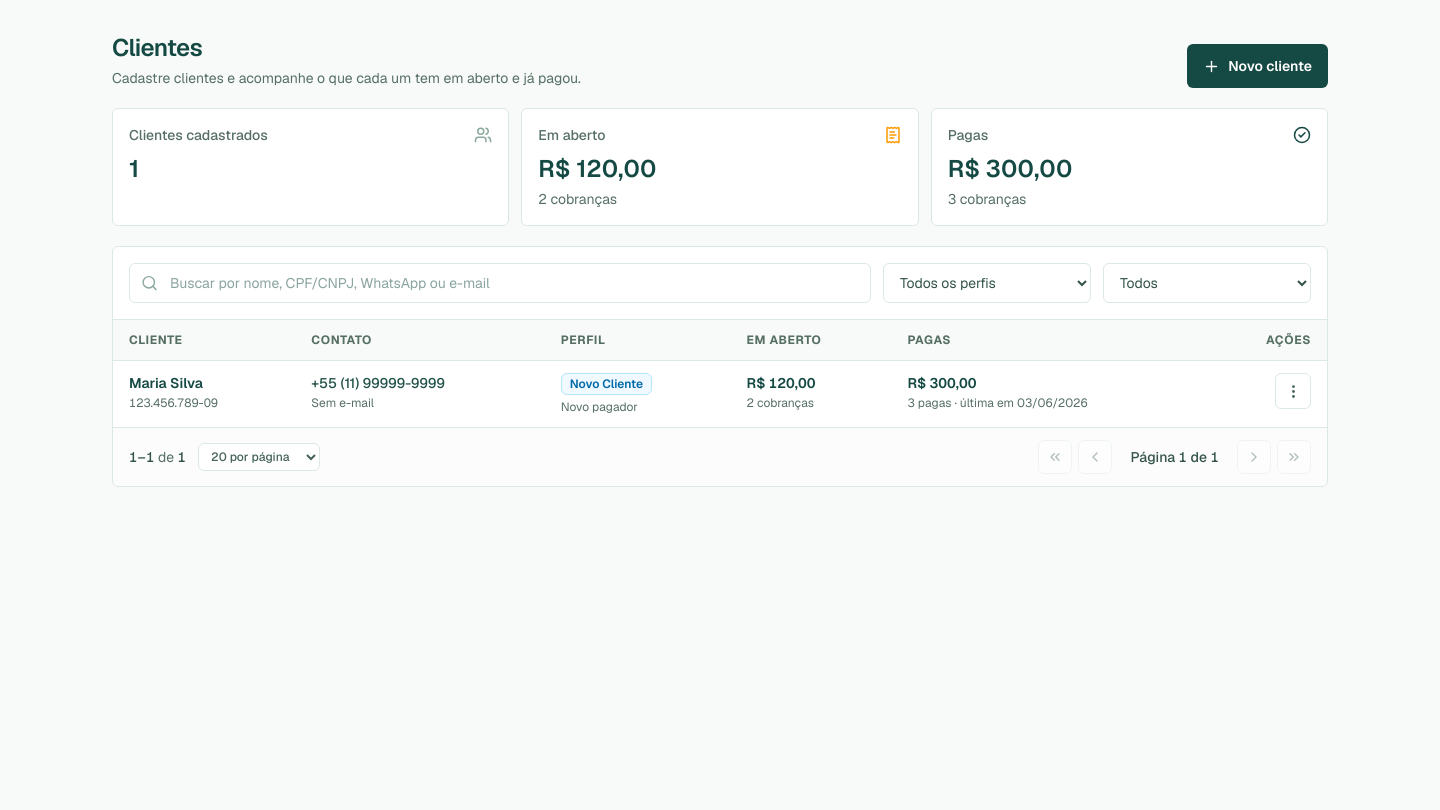
Test: ClientesPage › creates a recurring charge for the client without leaving Clientes
The width and height of the screenshot is (1440, 810).
Expected: the text "Maria Silva" is shown, [129,374,203,392]
Step 1. Click the button named "abrir ações do cliente maria" → x=1293, y=391, box [1275,373,1311,409]
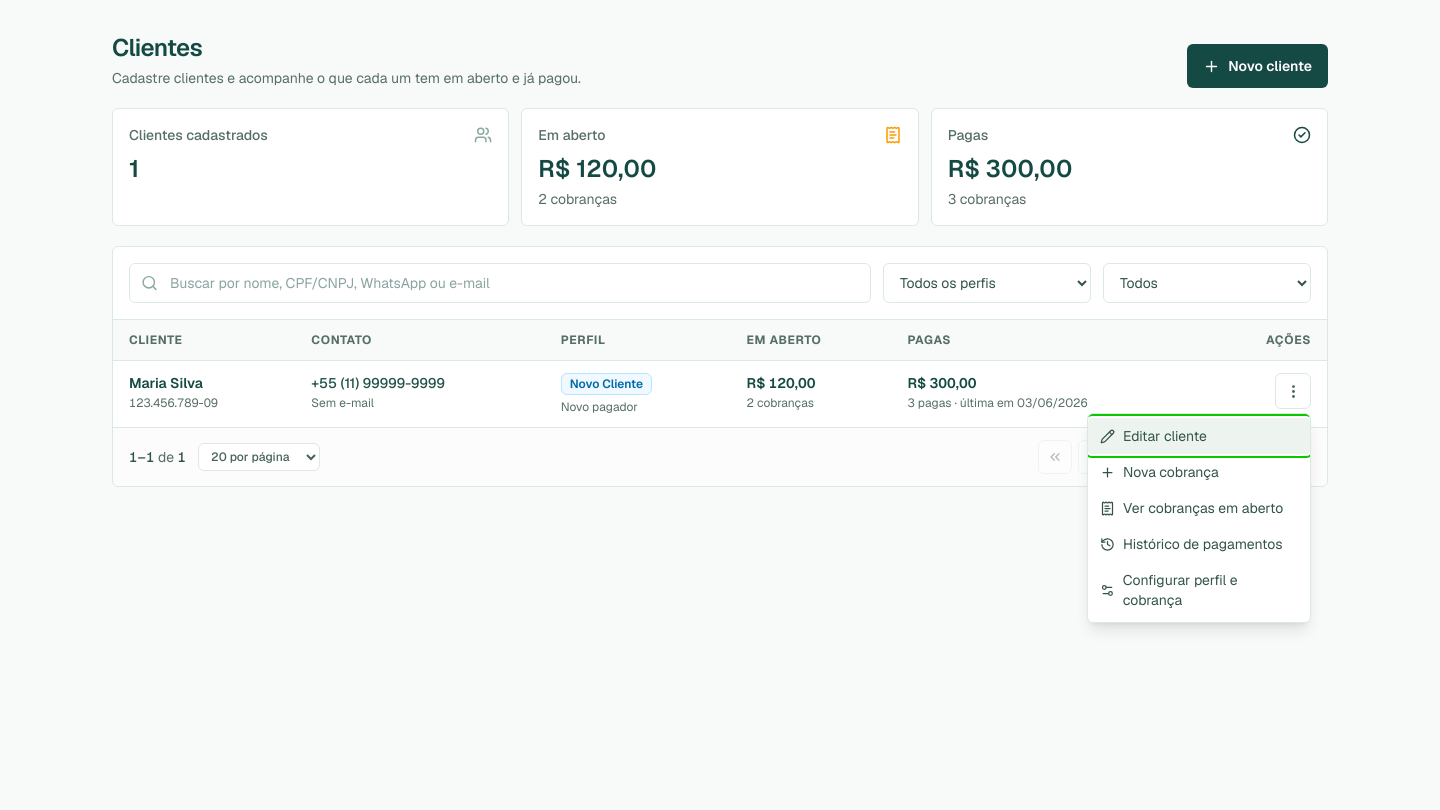
Step 2. Click the menu item "Nova cobrança" → x=1199, y=472, box [1088,454,1310,490]
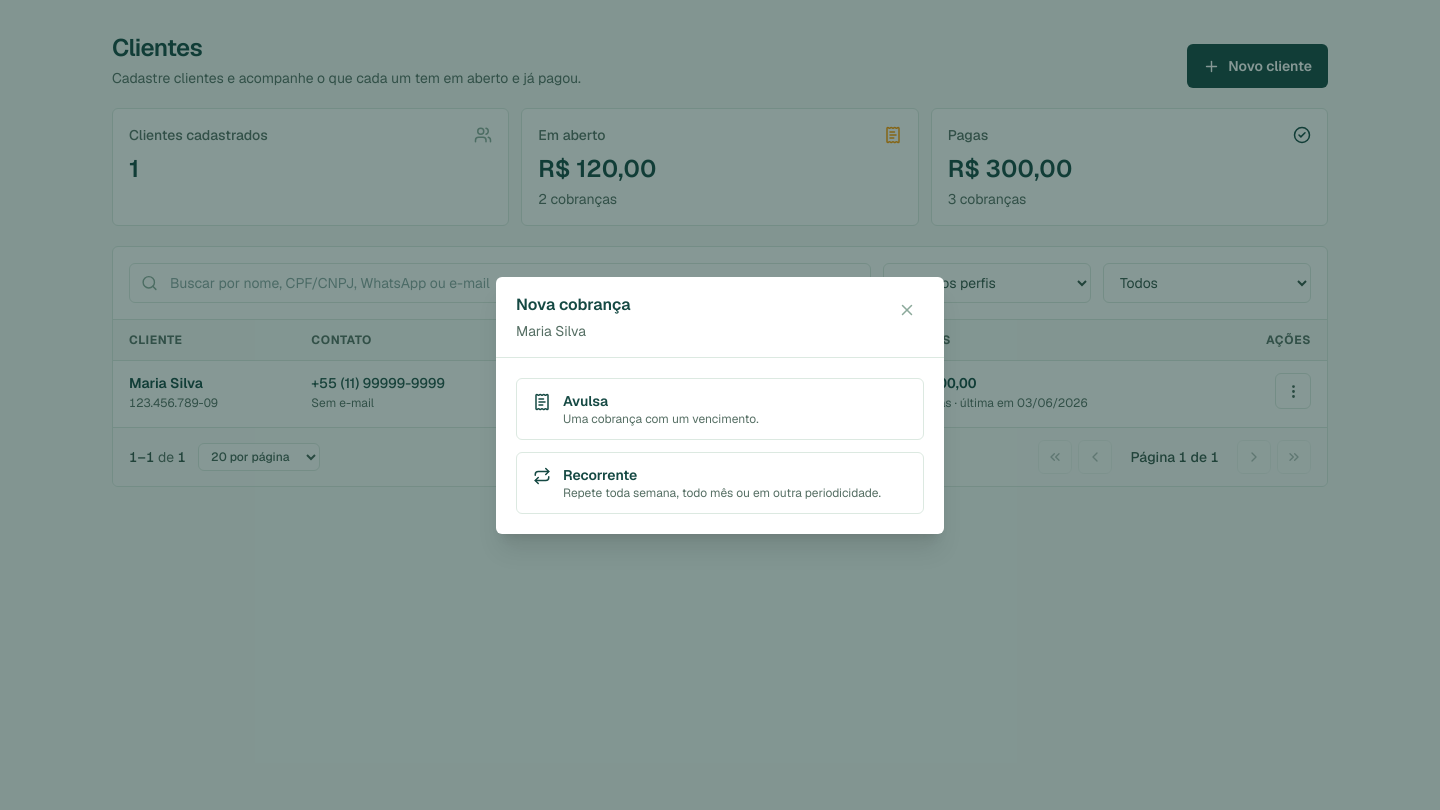
Step 3. Click the button "Recorrente" → x=720, y=482, box [516,452,924,514]
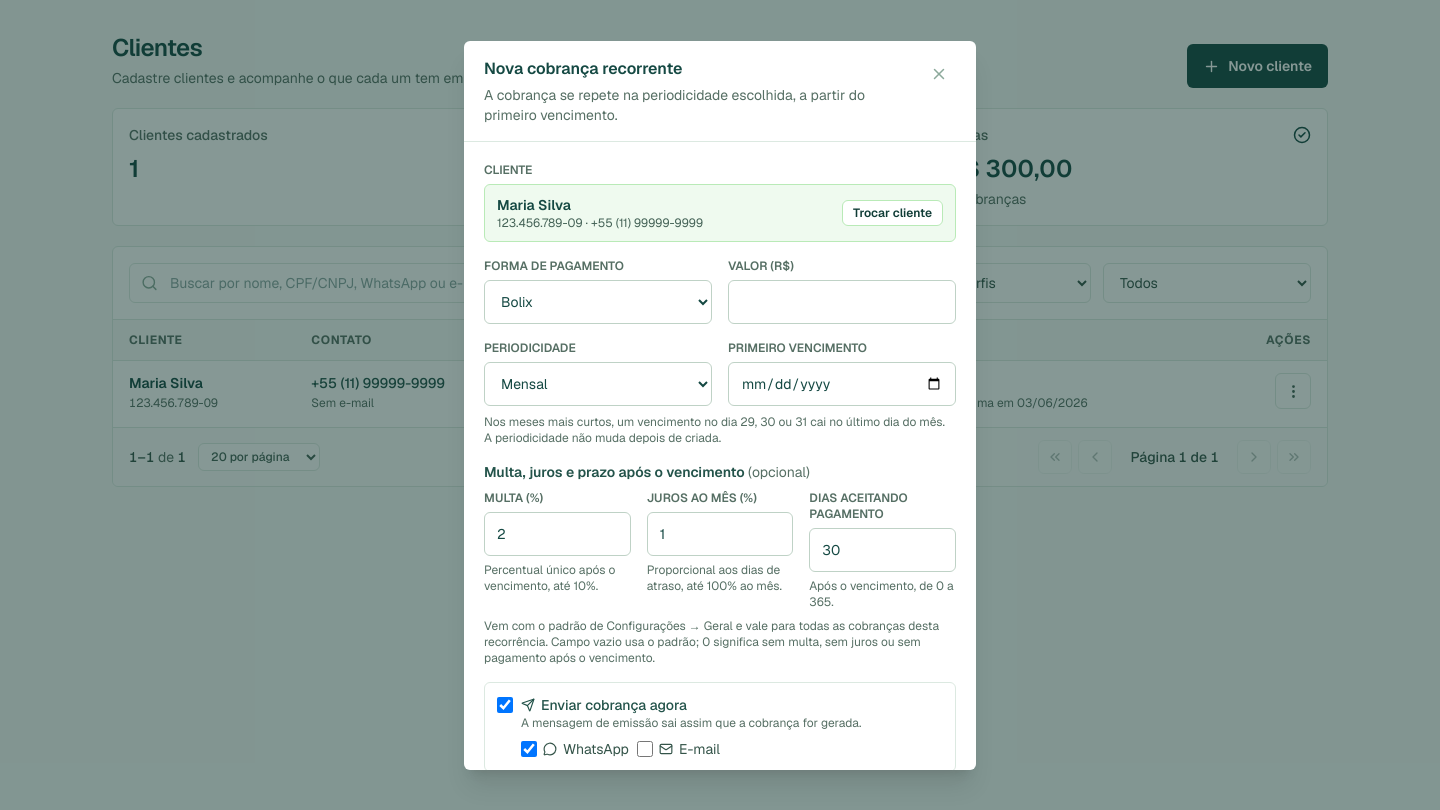
Now the text "Maria Silva" is shown, box [497,196,571,214]
Step 4. Type "120" into the number field labelled "Valor (R$)" → x=842, y=302, box [728,280,956,324]
Step 5. Select "Quinzenal (a cada 14 dias)" in the dropdown labelled "Periodicidade" → x=598, y=384, box [484,362,712,406]
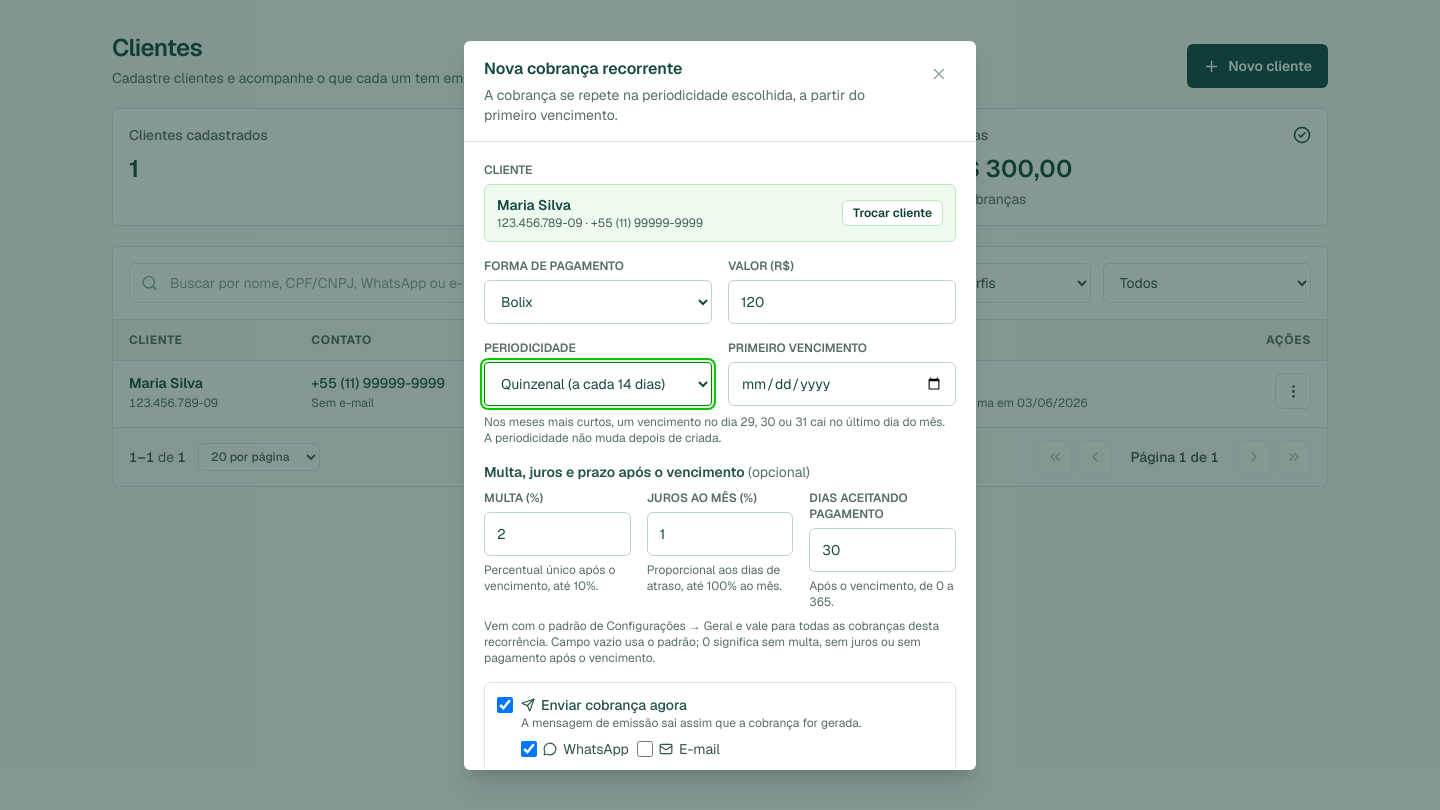
Step 6. Type "2030-03-04" into the date field labelled "Primeiro vencimento" → x=842, y=384, box [728,362,956,406]
(page scrolled)
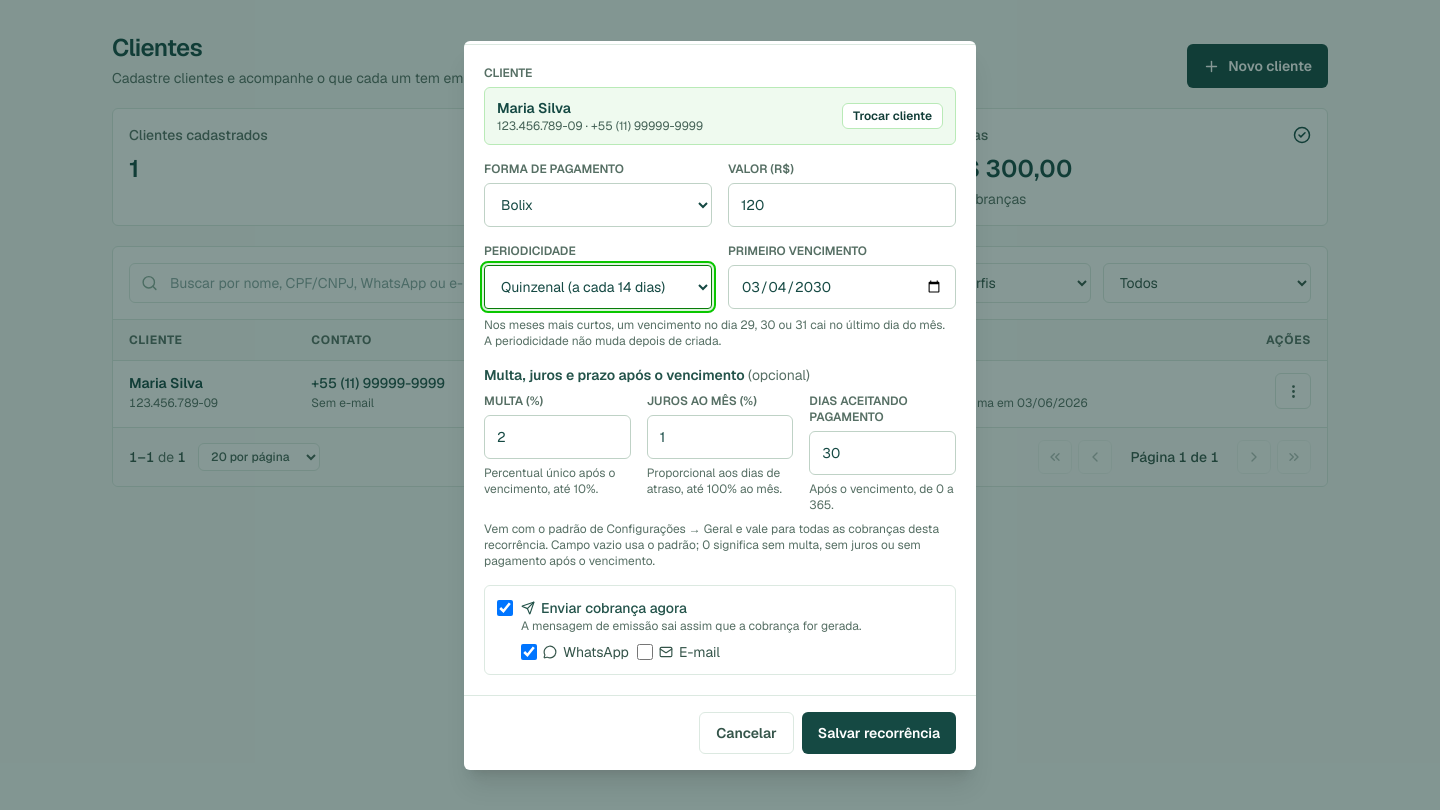
Step 7. Click the button "Salvar recorrência" → x=879, y=732, box [802,712,956,754]
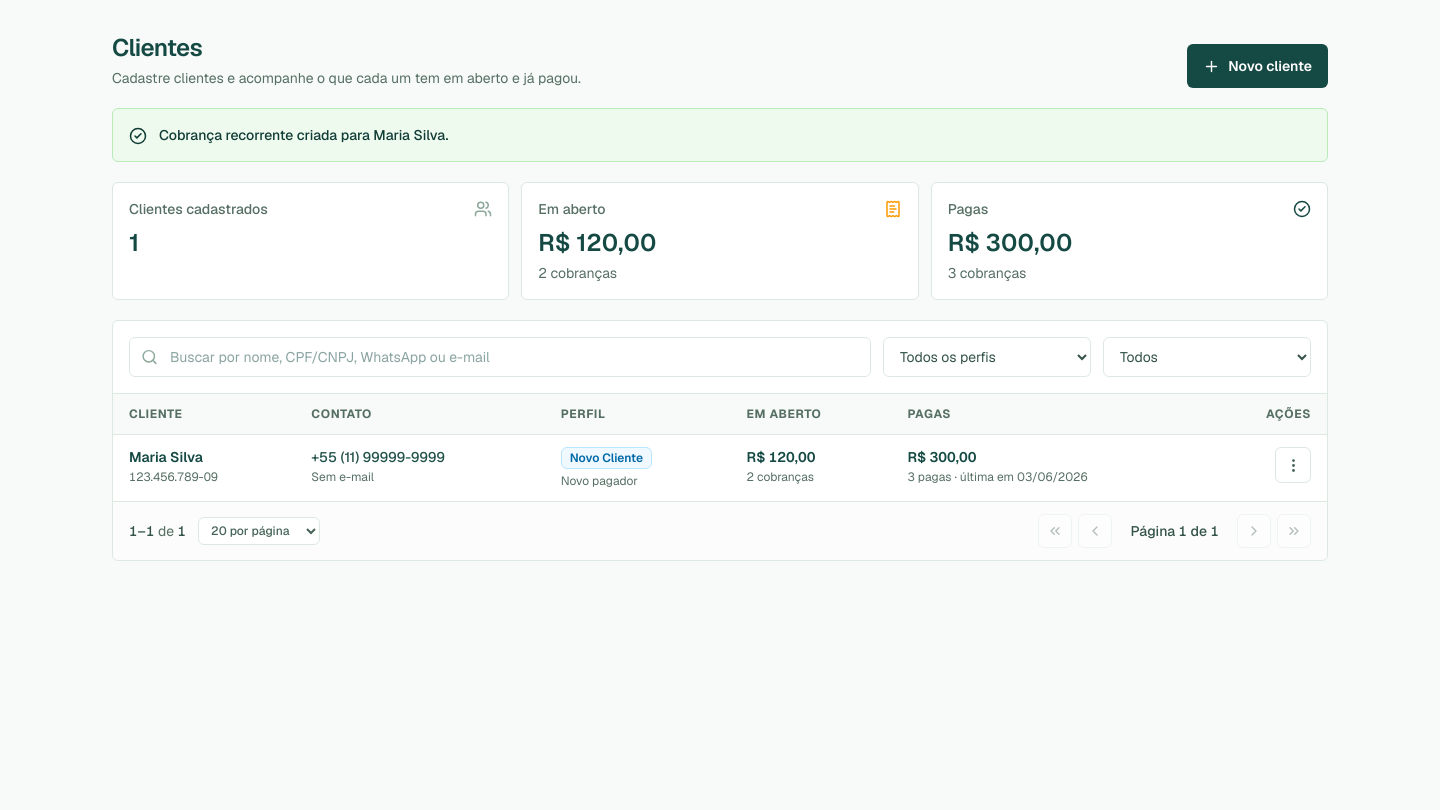
Now the text "Cobrança recorrente criada para Maria Silva." is shown, box [159,125,448,145]
